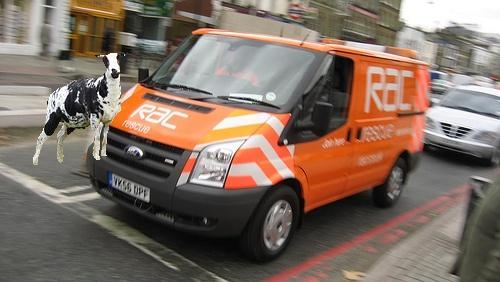tampered: (34, 52, 128, 165)
